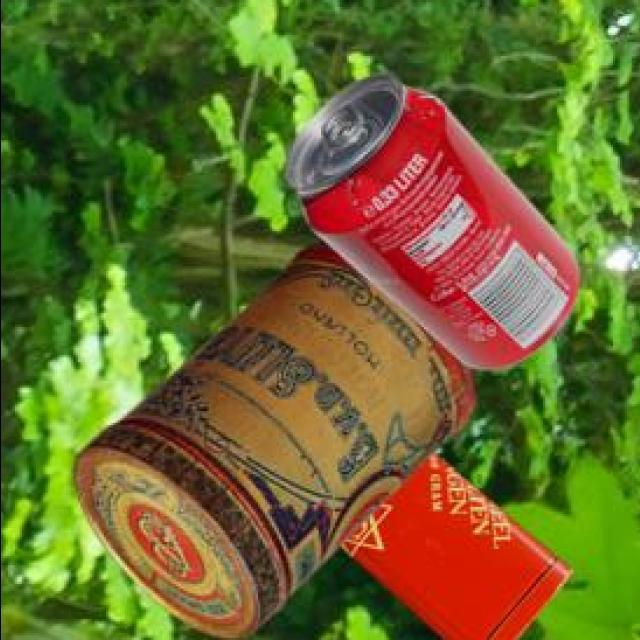logam: (76, 239, 480, 636), (288, 71, 580, 366), (342, 450, 576, 640)
